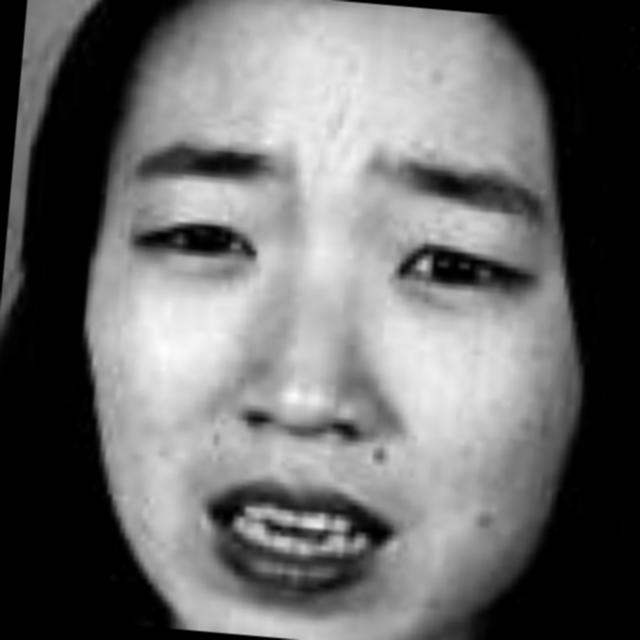fear: (54, 5, 562, 640)
